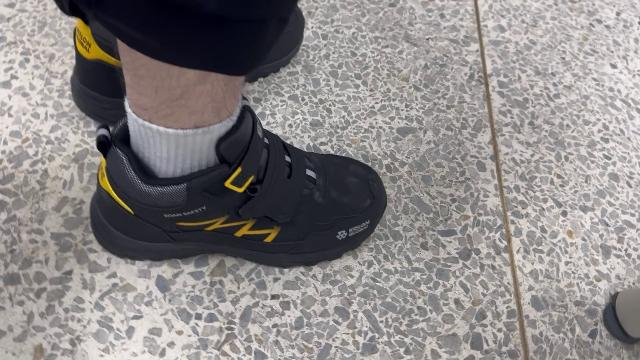shoe_worn: (82, 118, 388, 267), (54, 0, 312, 112)
